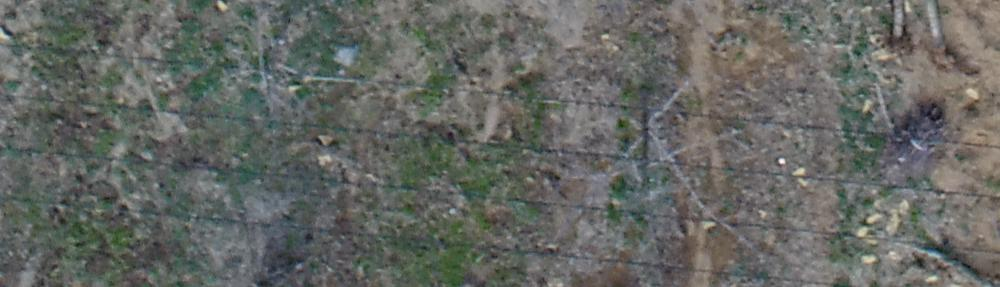apple: (578, 87, 788, 259)
